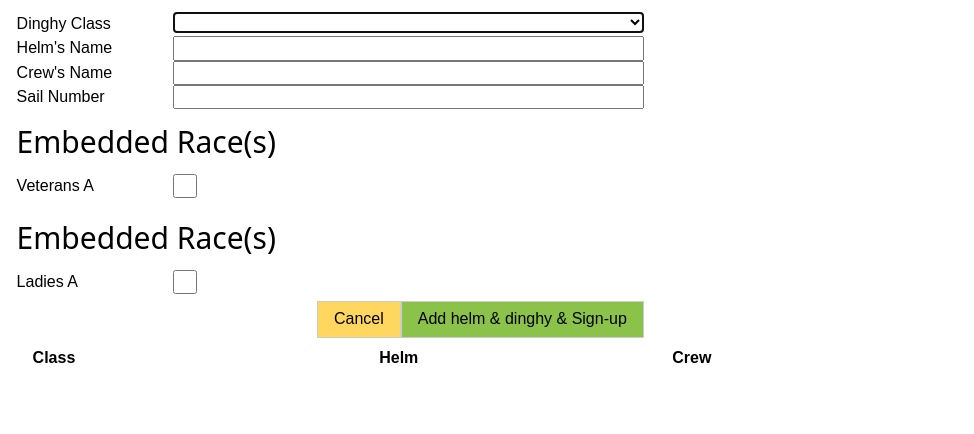
Test case: when a sail number is entered › displays dinghy class and previous crews for boats with that sail number
enter sail number
In the field labelled "Sail Number": (409, 97) [173, 85, 644, 109], type "1234"
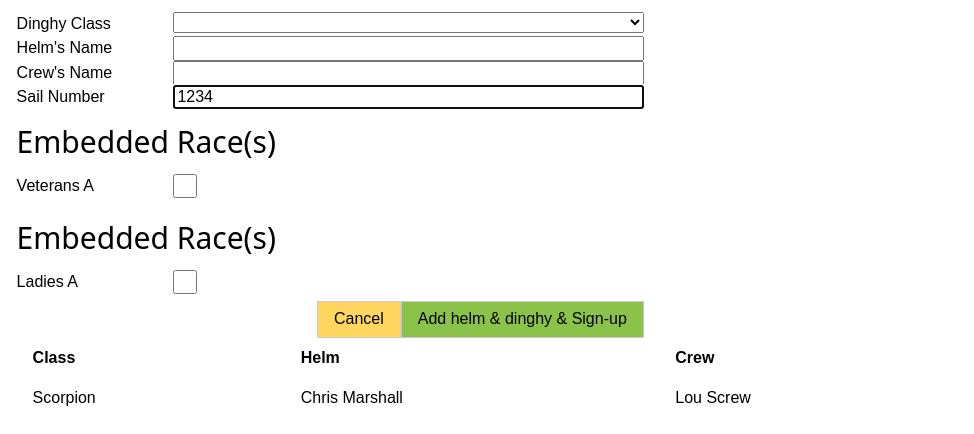
Expected: the number of cells "Scorpion" is 1, [17, 378, 293, 418]
Expected: the cell "Chris Marshall" is shown, [293, 378, 667, 418]
Expected: the cell "Lou Screw" is shown, [667, 378, 957, 418]
